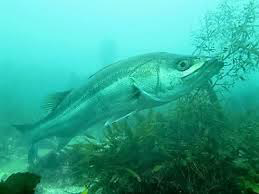suzuki: (19, 41, 225, 161)
